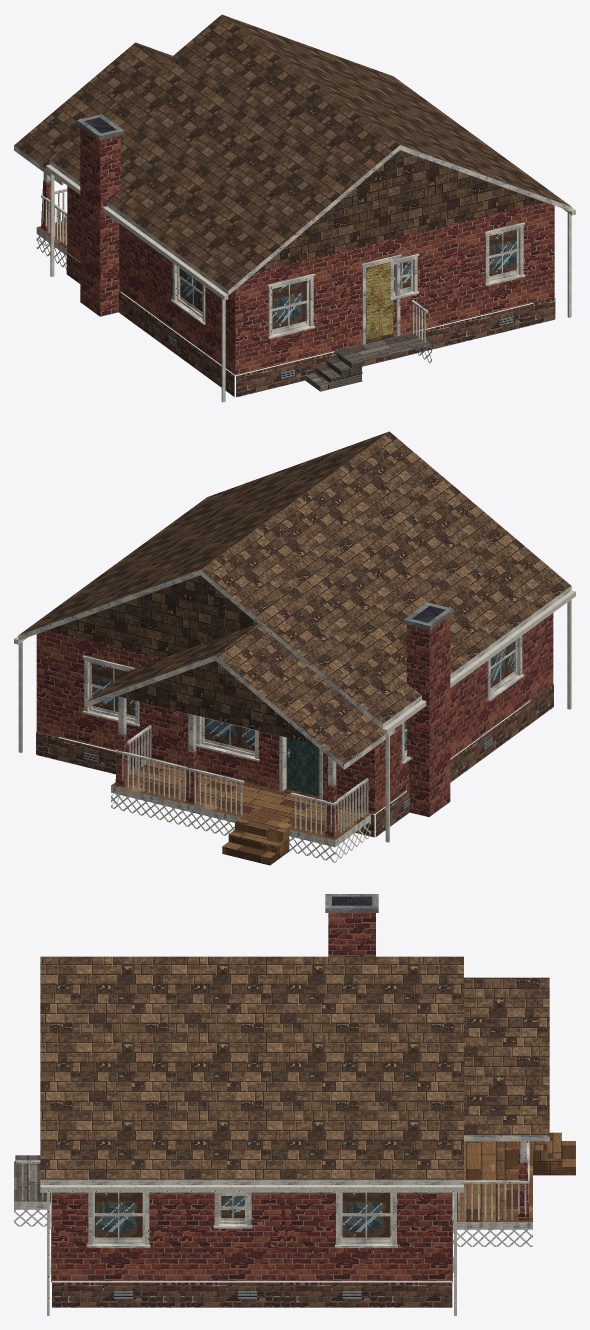
Rendered from RES_House_Bungalow.obj.
3 renders of one model, top to bottom at view 1: azimuth 30°, elevation 25°; view 2: azimuth 150°, elevation 25°; view 3: azimuth 270°, elevation 25°, orthographic. The views are drawn at different scales.
Visible parts, largest first — view 1: RES_House_Bungalow_Exterior_M_Arch_RoofShinglesBrown, RES_House_Bungalow_Exterior_M_Arch_BrickRed, RES_House_Bungalow_Exterior_M_Arch_TrimPainted, RES_House_Bungalow_Exterior_M_Arch_BrickWeatheredBrown, RES_House_Bungalow_Exterior_M_Arch_WindowGlassDirty, RES_House_Bungalow_Exterior_M_Town_PaintWhite, RES_House_Bungalow_Exterior_M_Arch_WoodPlanksAged, INT_Door_Back_M_Furn_WoodPainted, RES_House_Bungalow_Exterior_M_Arch_ConcreteFoundation; view 2: RES_House_Bungalow_Exterior_M_Arch_RoofShinglesBrown, RES_House_Bungalow_Exterior_M_Arch_BrickRed, RES_House_Bungalow_Exterior_M_Arch_TrimPainted, RES_House_Bungalow_Exterior_M_Int_FloorboardsOld, RES_House_Bungalow_Exterior_M_Arch_BrickWeatheredBrown, RES_House_Bungalow_Exterior_M_Town_PaintWhite, RES_House_Bungalow_Exterior_M_Arch_WindowGlassDirty, INT_Door_Front_M_Town_PaintGreen, RES_House_Bungalow_Exterior_M_Res_Lattice, RES_House_Bungalow_Exterior_M_Arch_ConcreteFoundation; view 3: RES_House_Bungalow_Exterior_M_Arch_RoofShinglesBrown, RES_House_Bungalow_Exterior_M_Arch_BrickRed, RES_House_Bungalow_Exterior_M_Arch_TrimPainted, RES_House_Bungalow_Exterior_M_Arch_BrickWeatheredBrown, RES_House_Bungalow_Exterior_M_Int_FloorboardsOld, RES_House_Bungalow_Exterior_M_Arch_WindowGlassDirty, RES_House_Bungalow_Exterior_M_Town_PaintWhite, RES_House_Bungalow_Exterior_M_Arch_WoodPlanksAged, RES_House_Bungalow_Exterior_M_Res_Lattice, RES_House_Bungalow_Exterior_M_Arch_ConcreteFoundation, RES_House_Bungalow_Exterior_M_Town_VentGrille.
Part boxes in pixels (box(x1,y1,x2,y2)): RES_House_Bungalow_Exterior_M_Arch_RoofShinglesBrown: box(14, 14, 570, 290); RES_House_Bungalow_Exterior_M_Arch_BrickRed: box(41, 126, 554, 375); RES_House_Bungalow_Exterior_M_Arch_TrimPainted: box(14, 145, 571, 366); RES_House_Bungalow_Exterior_M_Arch_BrickWeatheredBrown: box(66, 252, 555, 397); RES_House_Bungalow_Exterior_M_Arch_WindowGlassDirty: box(179, 229, 516, 329); RES_House_Bungalow_Exterior_M_Town_PaintWhite: box(46, 164, 575, 402); RES_House_Bungalow_Exterior_M_Arch_WoodPlanksAged: box(305, 331, 431, 391); INT_Door_Back_M_Furn_WoodPainted: box(366, 262, 393, 339); RES_House_Bungalow_Exterior_M_Arch_ConcreteFoundation: box(77, 114, 124, 140); RES_House_Bungalow_Exterior_M_Arch_RoofShinglesBrown: box(19, 431, 571, 764); RES_House_Bungalow_Exterior_M_Arch_BrickRed: box(36, 613, 553, 838); RES_House_Bungalow_Exterior_M_Arch_TrimPainted: box(18, 570, 571, 847); RES_House_Bungalow_Exterior_M_Int_FloorboardsOld: box(111, 760, 371, 865); RES_House_Bungalow_Exterior_M_Arch_BrickWeatheredBrown: box(36, 684, 553, 837); RES_House_Bungalow_Exterior_M_Town_PaintWhite: box(14, 590, 575, 842); RES_House_Bungalow_Exterior_M_Arch_WindowGlassDirty: box(91, 641, 515, 751); INT_Door_Front_M_Town_PaintGreen: box(286, 737, 319, 796); RES_House_Bungalow_Exterior_M_Res_Lattice: box(111, 793, 370, 862); RES_House_Bungalow_Exterior_M_Arch_ConcreteFoundation: box(403, 602, 453, 629); RES_House_Bungalow_Exterior_M_Arch_RoofShinglesBrown: box(40, 956, 549, 1179); RES_House_Bungalow_Exterior_M_Arch_BrickRed: box(52, 913, 529, 1281); RES_House_Bungalow_Exterior_M_Arch_TrimPainted: box(14, 1135, 549, 1247); RES_House_Bungalow_Exterior_M_Arch_BrickWeatheredBrown: box(51, 1222, 452, 1307); RES_House_Bungalow_Exterior_M_Int_FloorboardsOld: box(452, 1132, 575, 1221); RES_House_Bungalow_Exterior_M_Arch_WindowGlassDirty: box(95, 1192, 390, 1237); RES_House_Bungalow_Exterior_M_Town_PaintWhite: box(40, 1185, 463, 1315); RES_House_Bungalow_Exterior_M_Arch_WoodPlanksAged: box(14, 1155, 50, 1201); RES_House_Bungalow_Exterior_M_Res_Lattice: box(14, 1209, 532, 1246); RES_House_Bungalow_Exterior_M_Arch_ConcreteFoundation: box(325, 894, 378, 912); RES_House_Bungalow_Exterior_M_Town_VentGrille: box(50, 1256, 453, 1299).
Bounding box in the file's own units: 10.28 × 5.98 × 11.8.
Materials: 26 (25 with a texture image).
